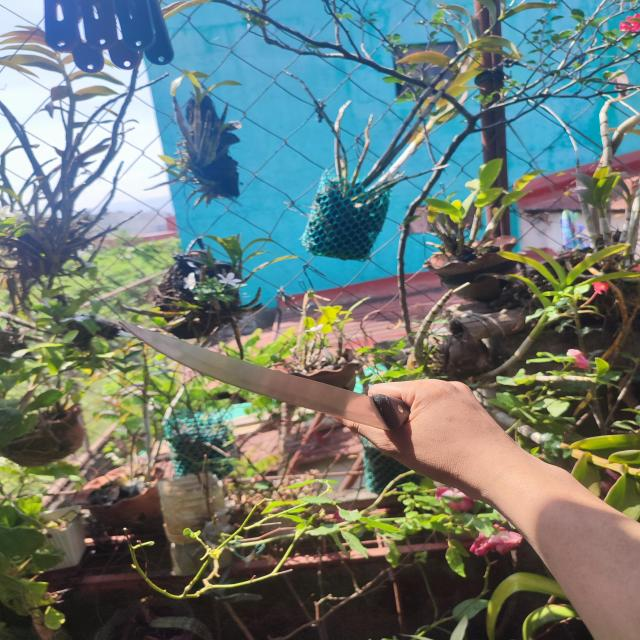knife: (119, 322, 410, 430)
